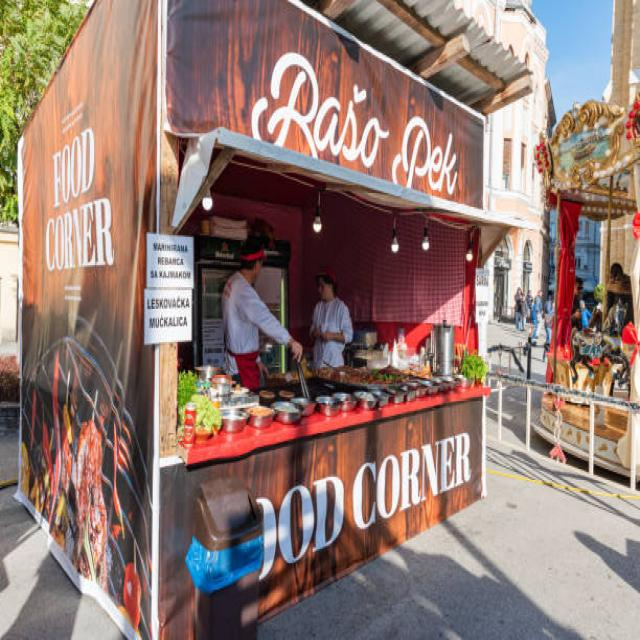Emperan: (3, 0, 533, 640)
